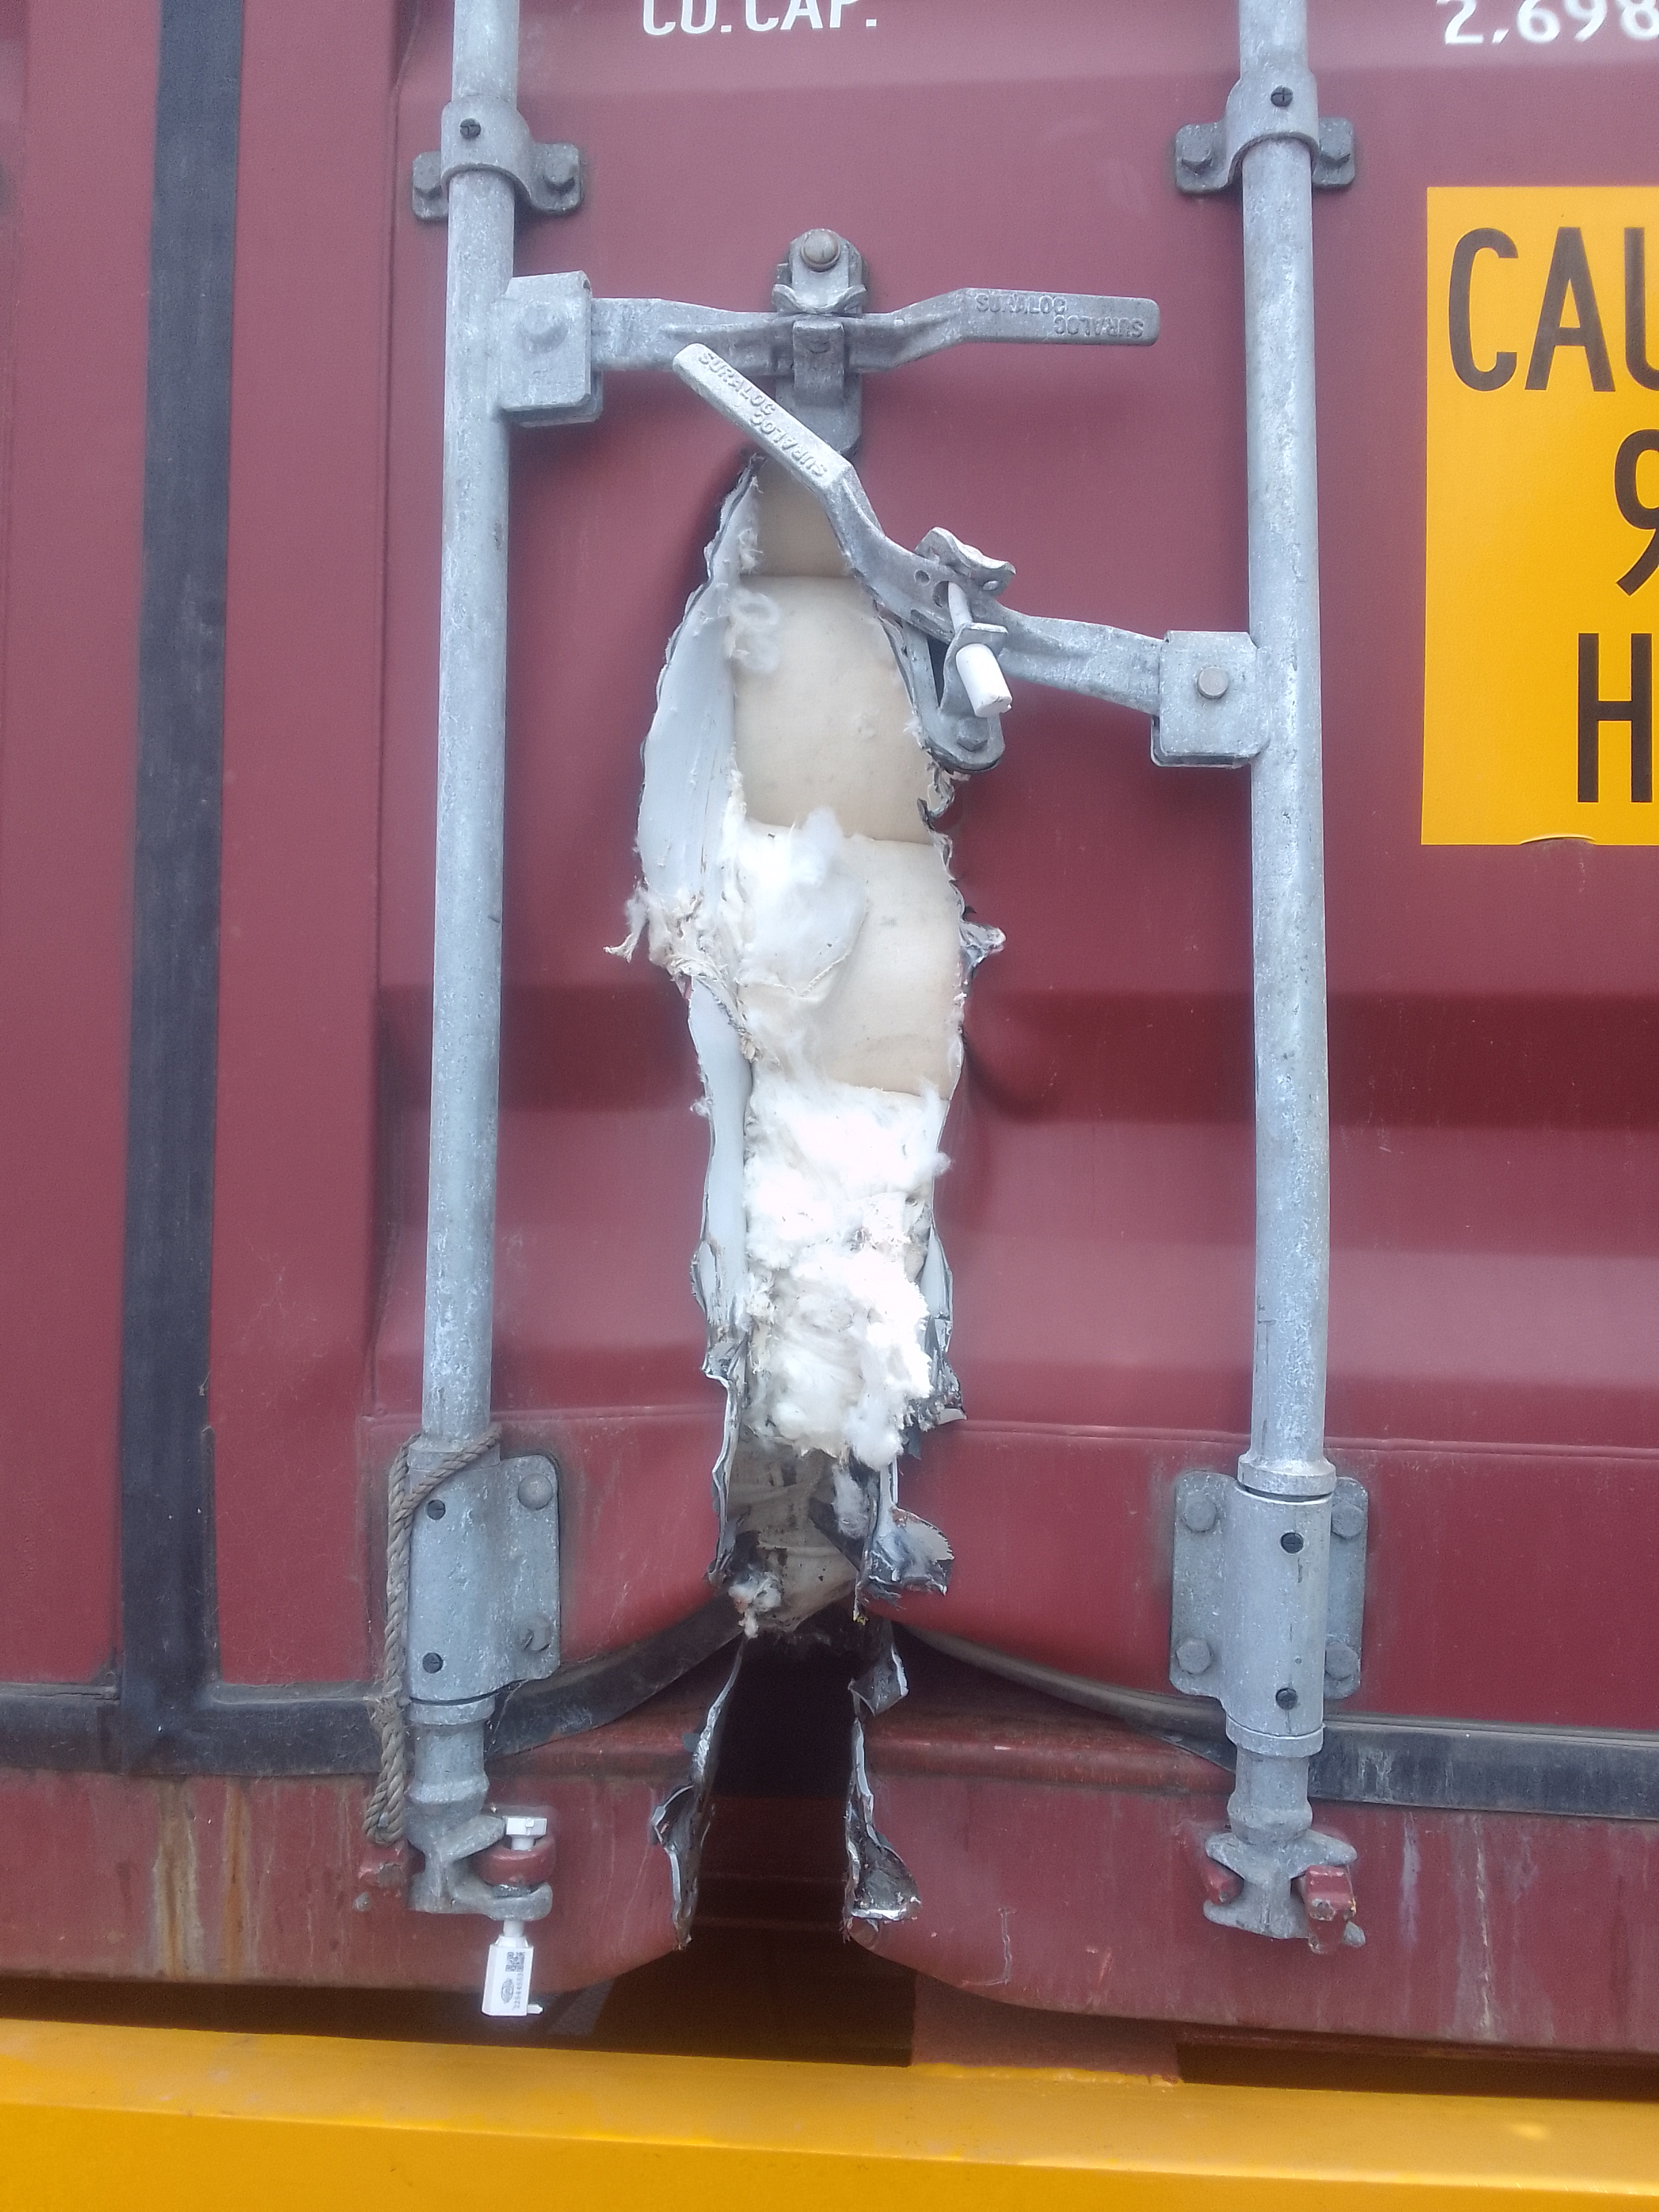cut: (586, 350, 1072, 1839)
